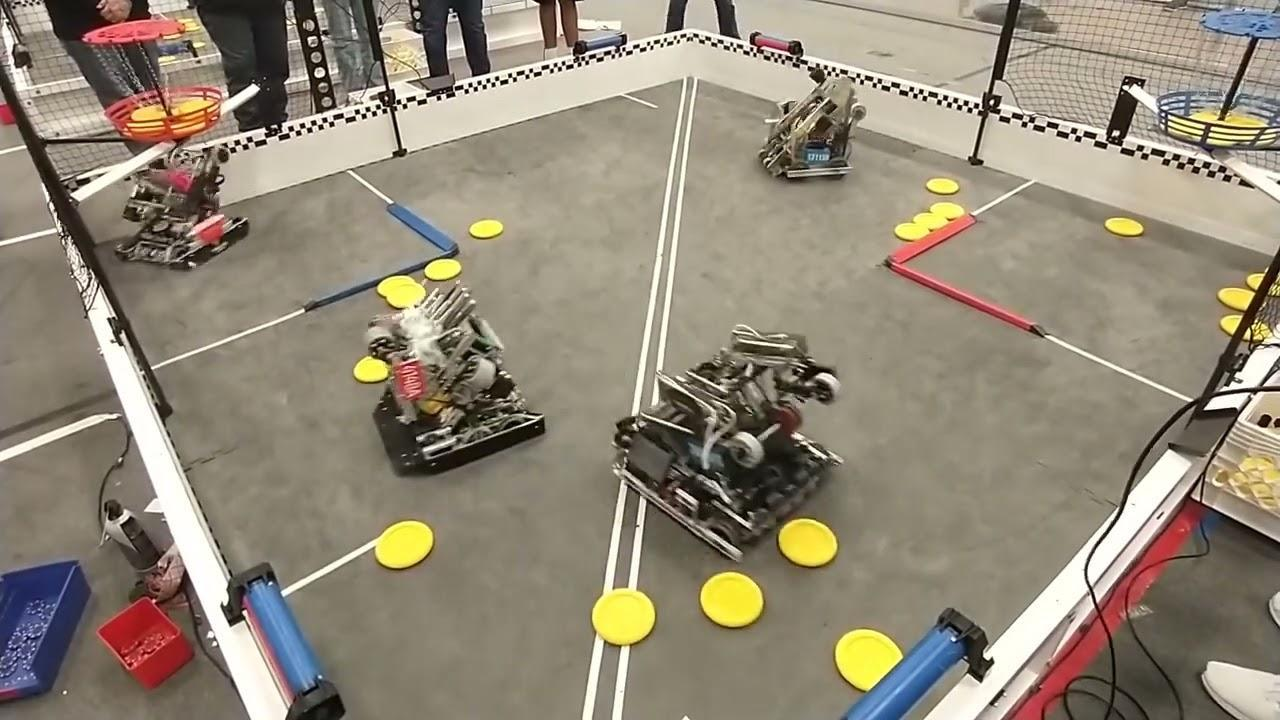robot: (609, 321, 853, 572), (345, 279, 559, 483), (115, 143, 253, 285), (750, 59, 871, 186)
